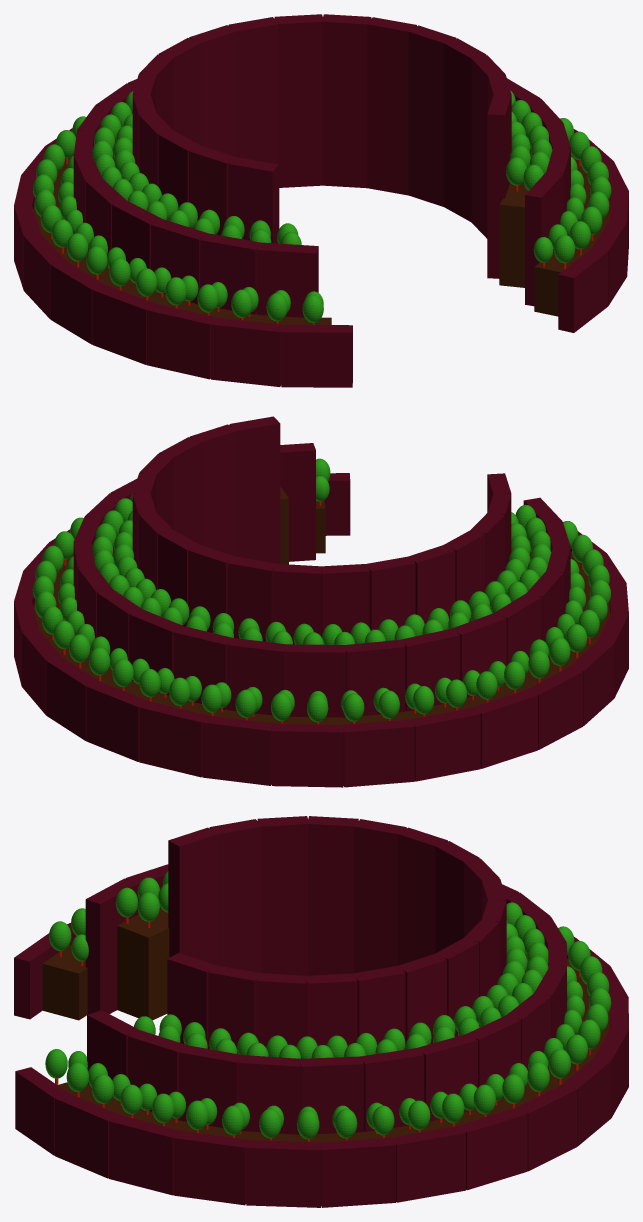
The picture shows the model from 3 angles, top to bottom: view 1: azimuth 30°, elevation 25°; view 2: azimuth 150°, elevation 25°; view 3: azimuth 270°, elevation 25°; orthographic projection. The views are drawn at different scales.
Visible parts, largest first — view 1: wall3, wall1, wal2, leaf, leaf.001, leaf.002, ground1f, leaf.003, ground2f; view 2: wall1, wall3, wal2, leaf, leaf.001, leaf.003, leaf.002, ground1f, ground2f; view 3: wall3, wall1, wal2, leaf, ground1f, leaf.001, leaf.003, leaf.002, ground2f.
Boxes of the visible parts, bbox=[...] form: wall3: bbox=[132, 14, 511, 278]; wall1: bbox=[14, 128, 628, 387]; wal2: bbox=[73, 78, 570, 317]; leaf: bbox=[33, 116, 611, 322]; leaf.001: bbox=[92, 90, 552, 244]; leaf.002: bbox=[58, 155, 586, 312]; ground1f: bbox=[33, 155, 610, 324]; leaf.003: bbox=[113, 112, 530, 243]; ground2f: bbox=[112, 141, 531, 287]; wall1: bbox=[14, 473, 628, 787]; wall3: bbox=[132, 416, 511, 644]; wal2: bbox=[73, 443, 570, 717]; leaf: bbox=[32, 458, 610, 722]; leaf.001: bbox=[92, 492, 551, 644]; leaf.003: bbox=[113, 511, 530, 644]; leaf.002: bbox=[58, 476, 585, 712]; ground1f: bbox=[33, 501, 610, 724]; ground2f: bbox=[112, 486, 531, 564]; wall3: bbox=[167, 816, 506, 1053]; wall1: bbox=[14, 923, 628, 1207]; wal2: bbox=[85, 864, 566, 1134]; leaf: bbox=[45, 908, 611, 1139]; ground1f: bbox=[42, 944, 609, 1142]; leaf.001: bbox=[115, 871, 548, 1058]; leaf.003: bbox=[137, 883, 527, 1058]; leaf.002: bbox=[68, 934, 584, 1129]; ground2f: bbox=[117, 907, 527, 1020].
Size of the model in its own units: 10.34 by 3.04 by 9.85.
